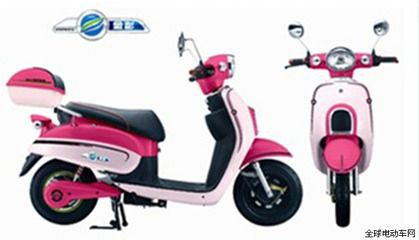non-vehicle: (4, 40, 301, 232), (283, 17, 400, 228)
